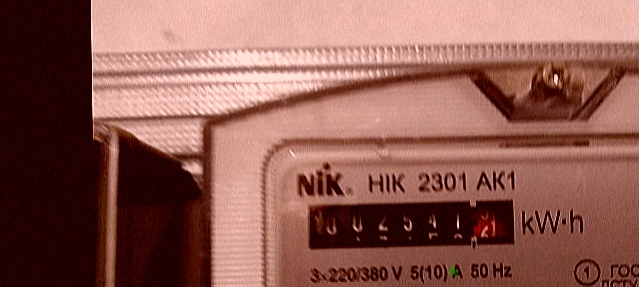0: (321, 210, 339, 237), (349, 207, 363, 234)
1: (449, 204, 462, 231)
2: (373, 207, 389, 232)
4: (425, 205, 438, 228)
5: (398, 205, 416, 234)
6: (476, 220, 491, 238)
screen: (295, 186, 529, 260)
